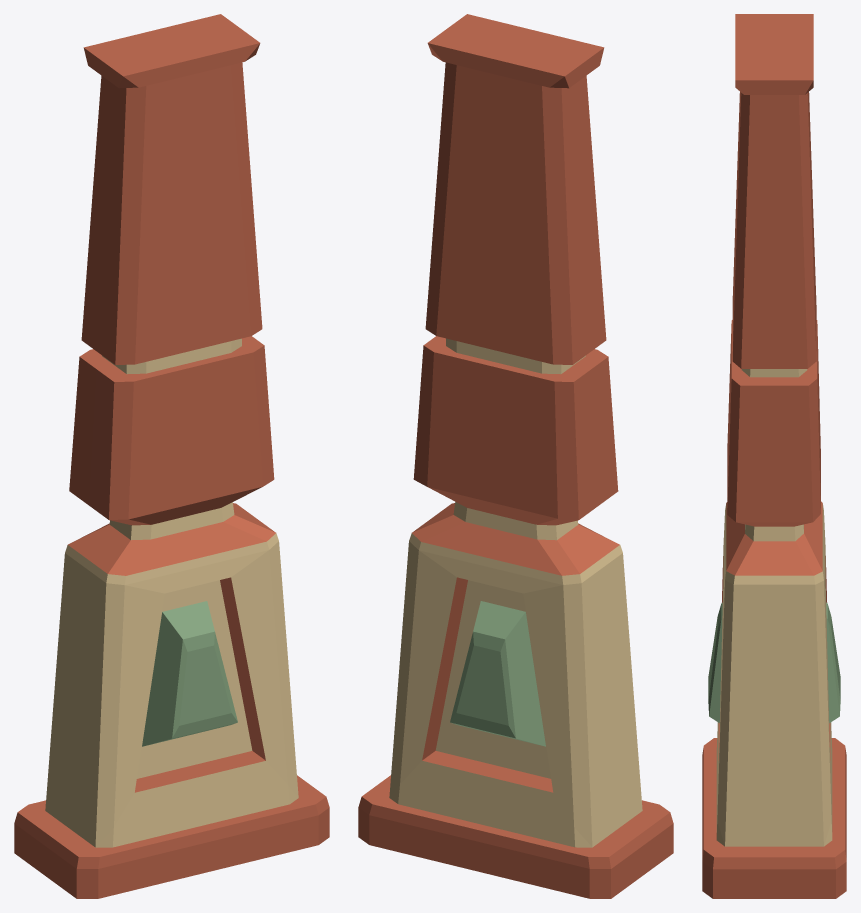
File: EnemyTower.fbx
3 renders of one model, left to right at view 1: azimuth 30°, elevation 25°; view 2: azimuth 150°, elevation 25°; view 3: azimuth 270°, elevation 25°, orthographic.
Parts seen in each view (by area): view 1: Cube; view 2: Cube; view 3: Cube.
Part boxes in pixels (x1,y1,x2,y2): Cube: (14, 14, 329, 898); Cube: (358, 14, 673, 898); Cube: (702, 14, 846, 898).
Size of the model in its own units: 498 by 1505 by 249.
